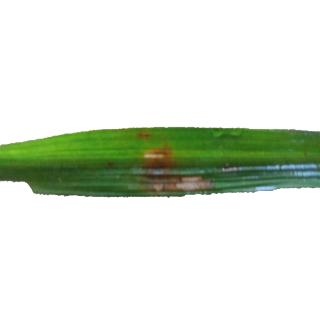Hawar-Daun: (175, 169, 214, 192), (144, 147, 170, 180), (171, 186, 172, 191)
